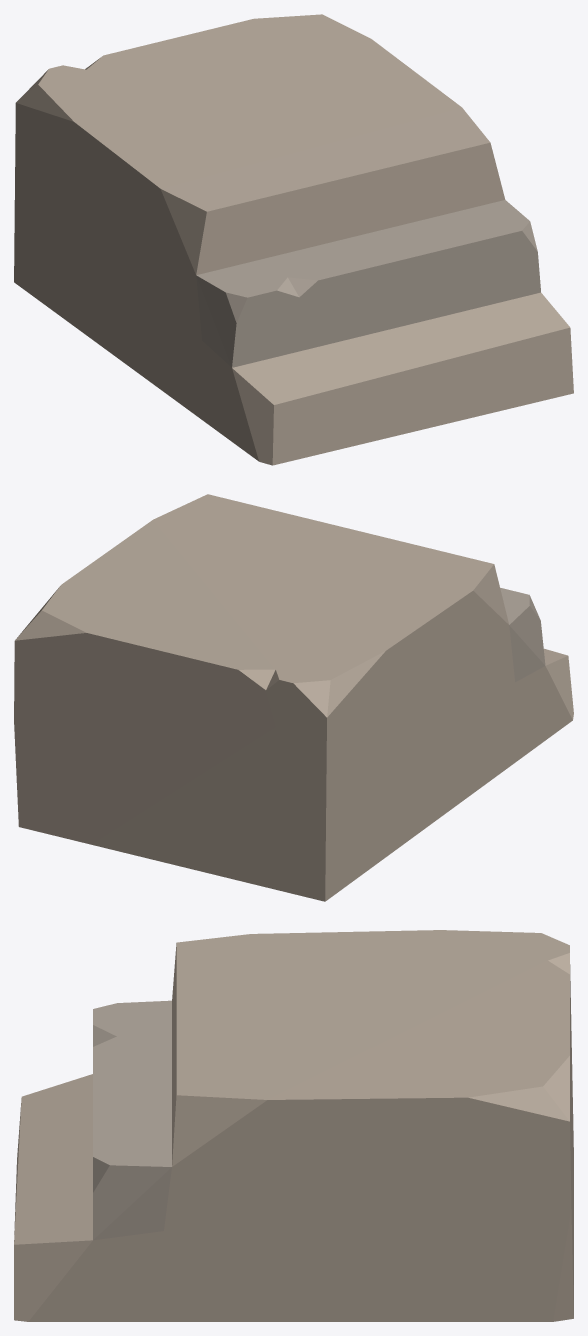
Rendered from SM_Bld_Village_Stairs_01.fbx.
3 renders of one model, top to bottom at view 1: azimuth 30°, elevation 25°; view 2: azimuth 150°, elevation 25°; view 3: azimuth 270°, elevation 25°, orthographic. The views are drawn at different scales.
Parts seen in each view (by area): view 1: SM_Bld_Village_Stairs_01; view 2: SM_Bld_Village_Stairs_01; view 3: SM_Bld_Village_Stairs_01.
Boxes of the visible parts, bbox=[...] form: SM_Bld_Village_Stairs_01: bbox=[14, 14, 573, 465]; SM_Bld_Village_Stairs_01: bbox=[14, 494, 573, 901]; SM_Bld_Village_Stairs_01: bbox=[14, 930, 573, 1321].
Bounding box in the file's own units: 132 × 84.63 × 188.
